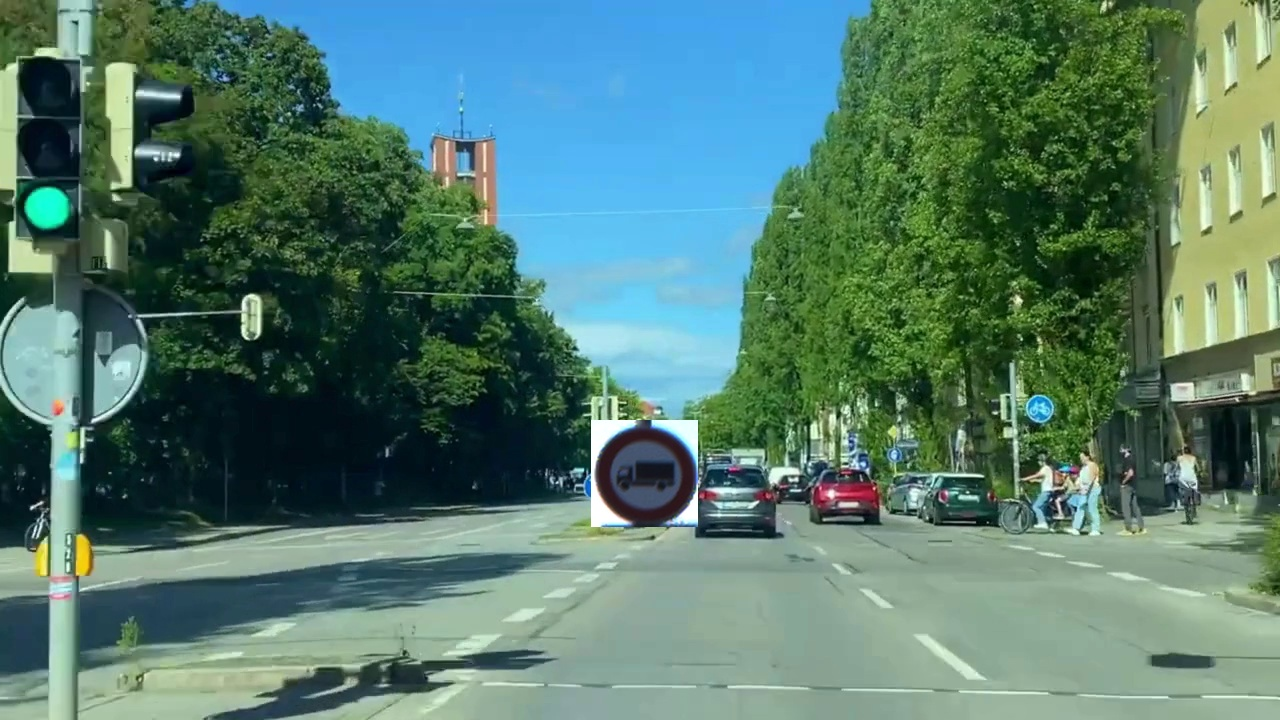Veh >3.5t prohib: (591, 420, 698, 527)
